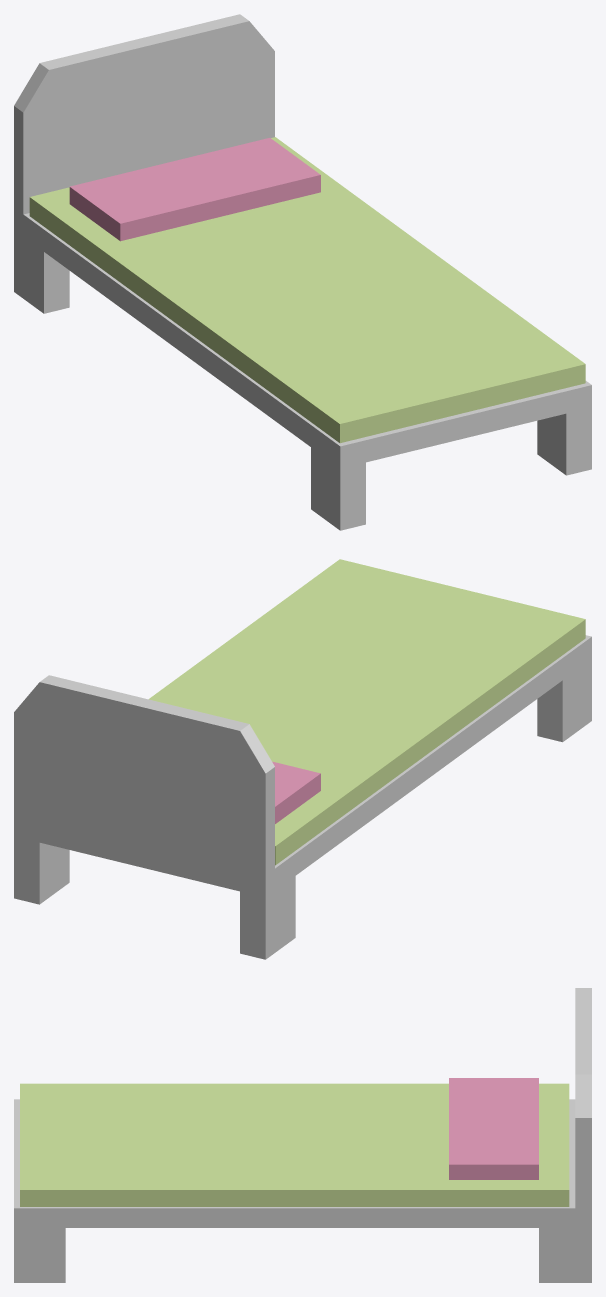
The model's file is Bed.fbx.
The picture shows the model from 3 angles, top to bottom: view 1: azimuth 30°, elevation 25°; view 2: azimuth 150°, elevation 25°; view 3: azimuth 270°, elevation 25°; orthographic projection. The views are drawn at different scales.
Parts seen in each view (by area): view 1: Cube; view 2: Cube; view 3: Cube.
Boxes of the visible parts, bbox=[...] form: Cube: bbox=[14, 14, 591, 530]; Cube: bbox=[14, 559, 591, 959]; Cube: bbox=[14, 988, 591, 1282].
Bounding box in the file's own units: 356 × 301 × 800.
